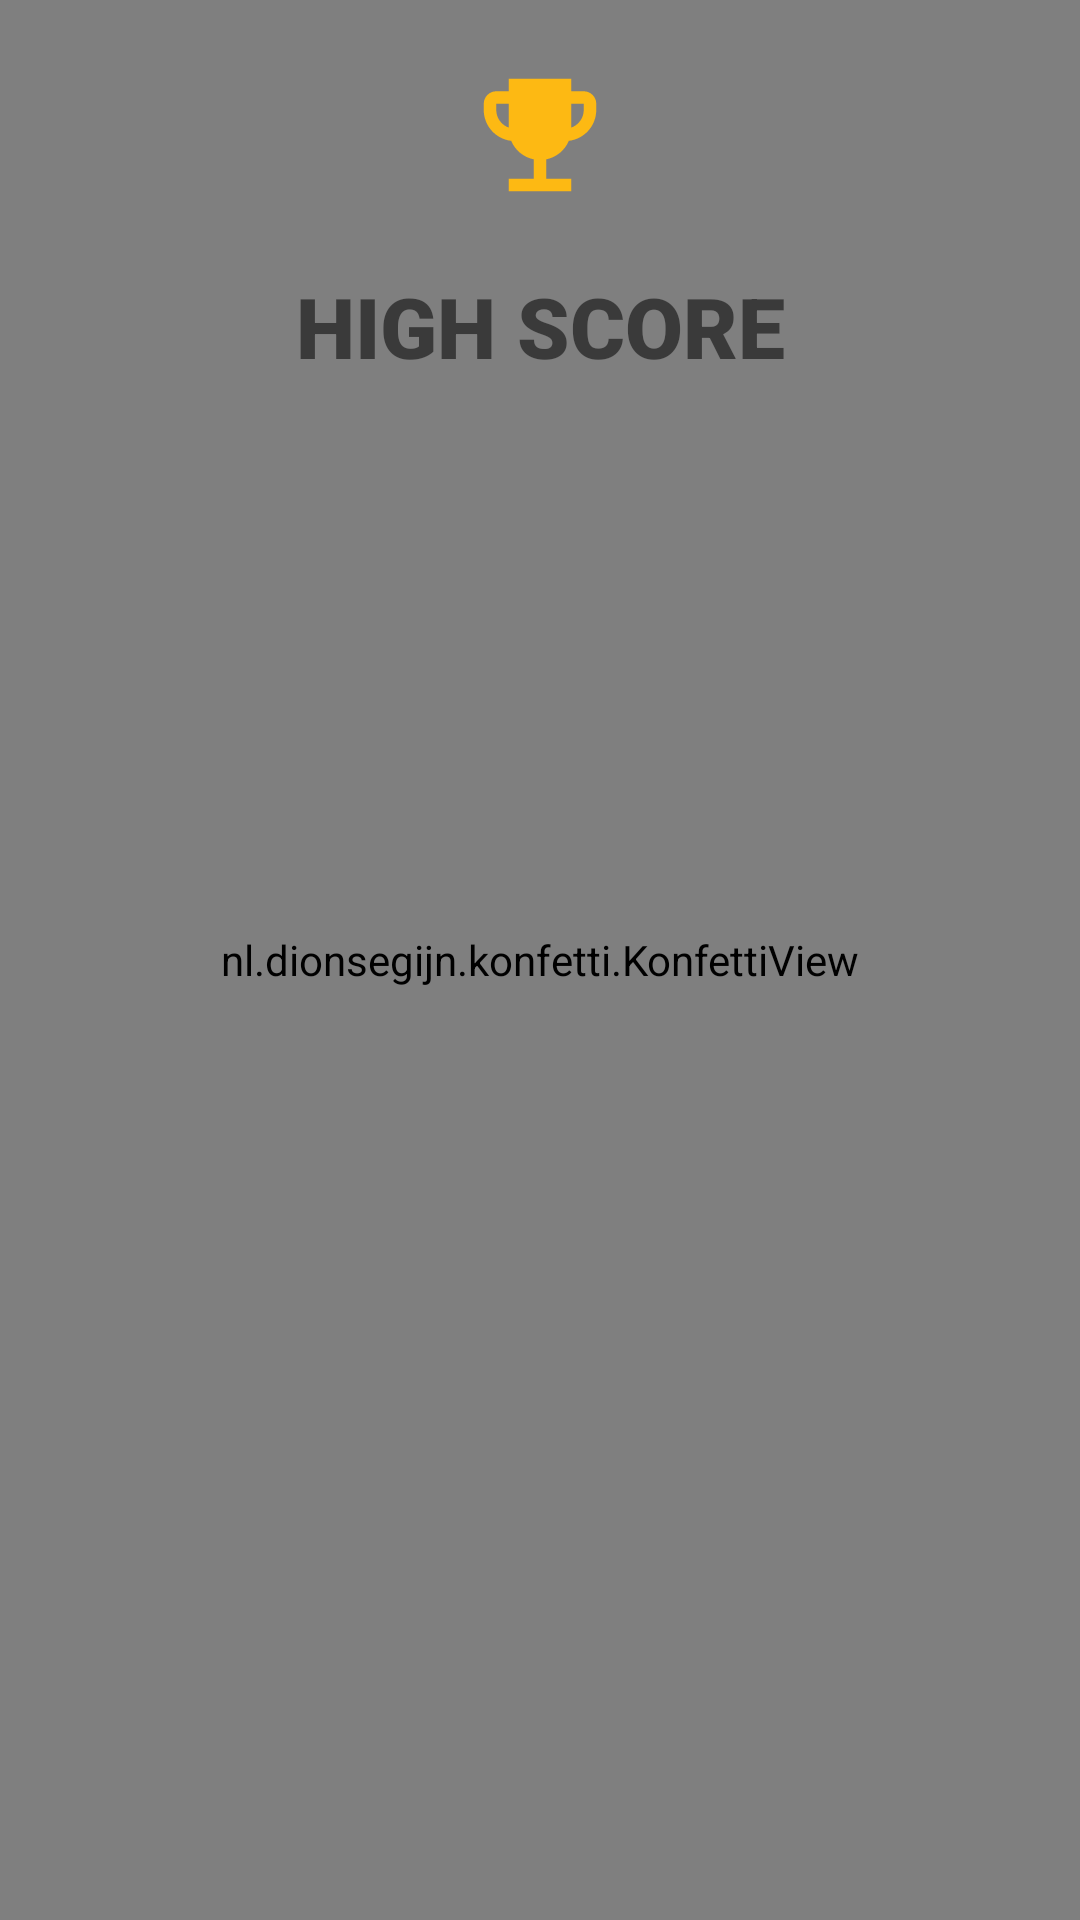

Where icons sit on this 1080 × 1920 app screen, as (x1, y1, x2, y2):
emoji events: (483, 78, 597, 192)
